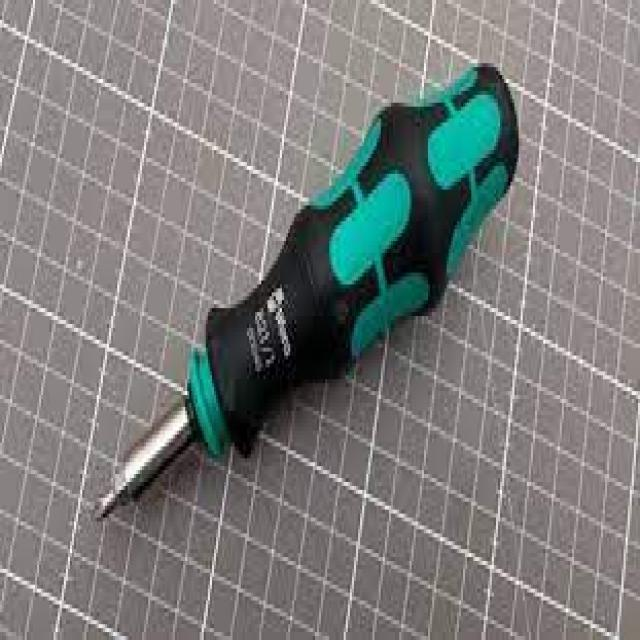screwdriver: (87, 63, 524, 537)
